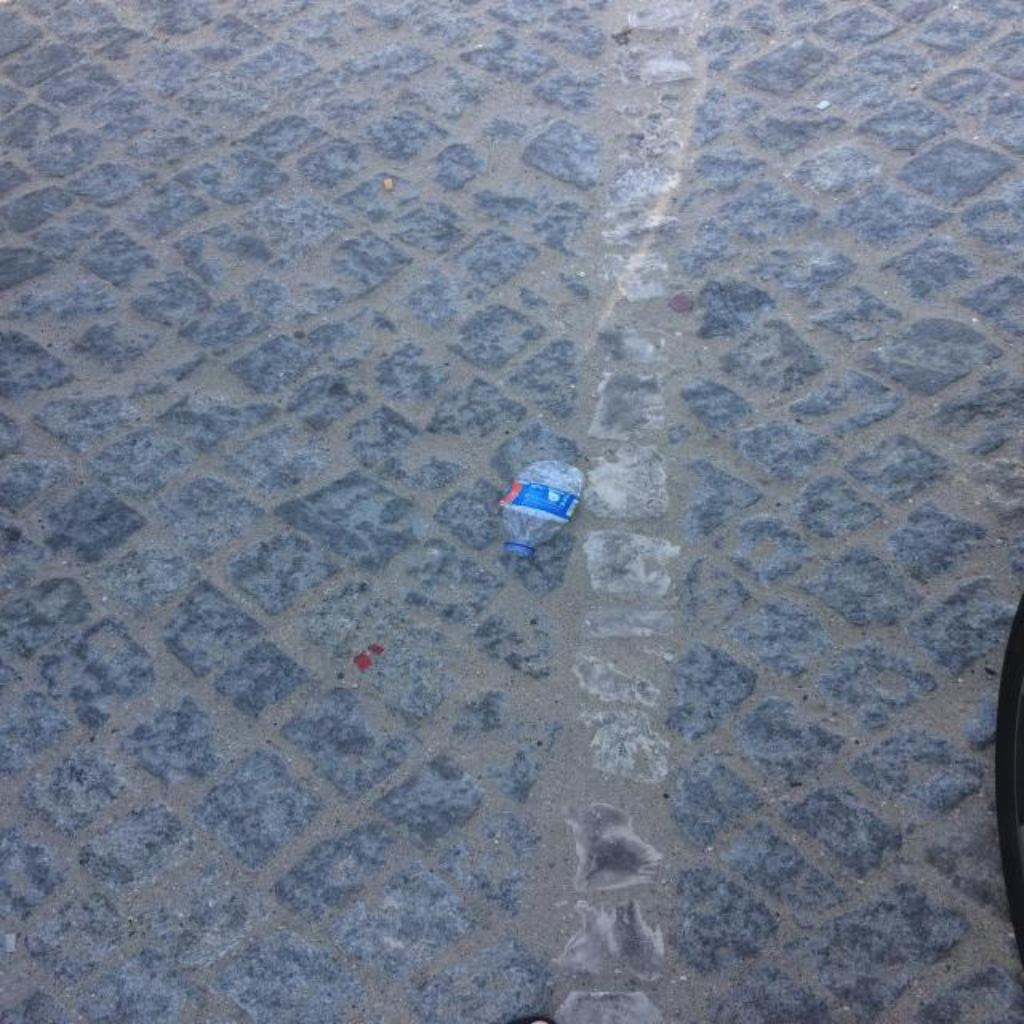garbage: (494, 459, 586, 558)
